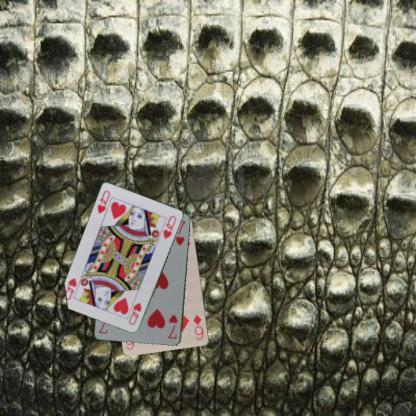6d: (190, 312, 206, 342)
7h: (165, 312, 179, 340)
Qh: (94, 188, 112, 215), (126, 300, 143, 326)
